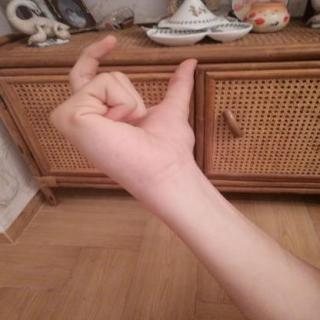NOON: (32, 28, 217, 196)
